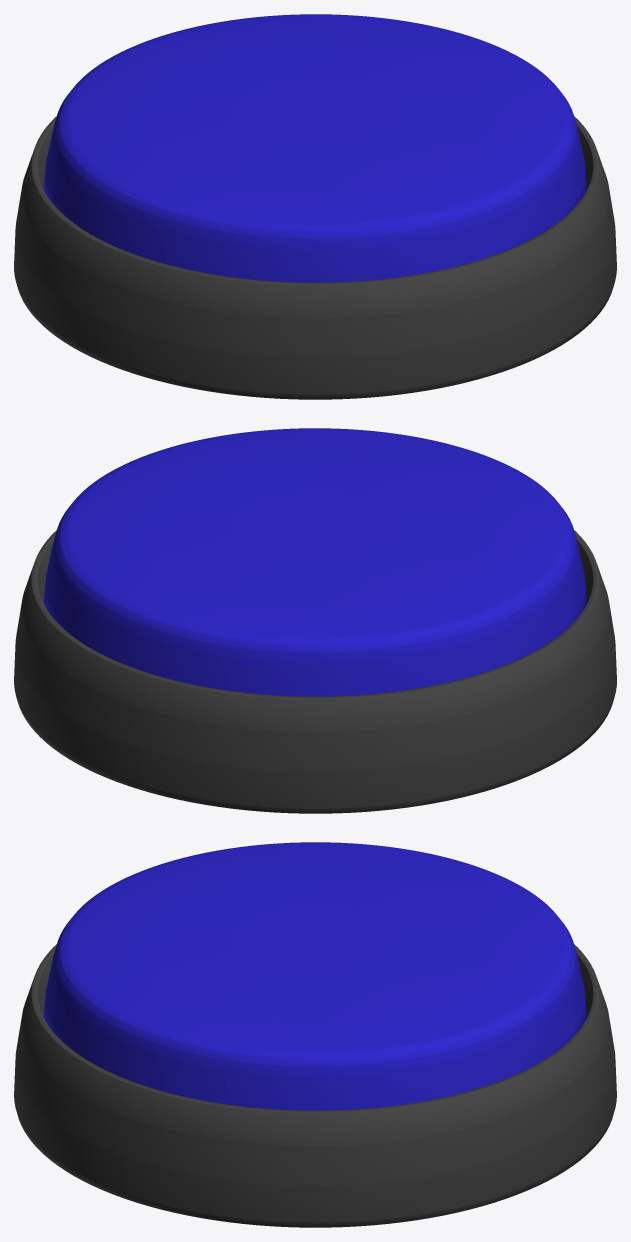
File: Button.fbx
3 renders of one model, top to bottom at view 1: azimuth 30°, elevation 25°; view 2: azimuth 150°, elevation 25°; view 3: azimuth 270°, elevation 25°, orthographic.
Parts seen in each view (by area): view 1: Top, Bot; view 2: Top, Bot; view 3: Top, Bot.
Boxes of the visible parts, x1,y1,x2,y2 form: Top: [43, 14, 587, 282]; Bot: [14, 116, 616, 399]; Top: [43, 428, 587, 696]; Bot: [14, 530, 616, 813]; Top: [43, 842, 587, 1110]; Bot: [14, 944, 616, 1227].
Size of the model in its own units: 14.98 by 4.4 by 14.98.
